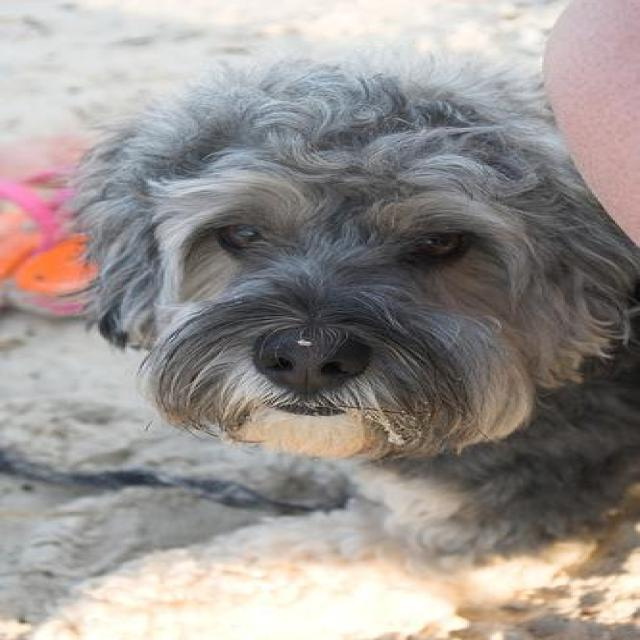dandie_dinmont: (67, 52, 636, 638)
